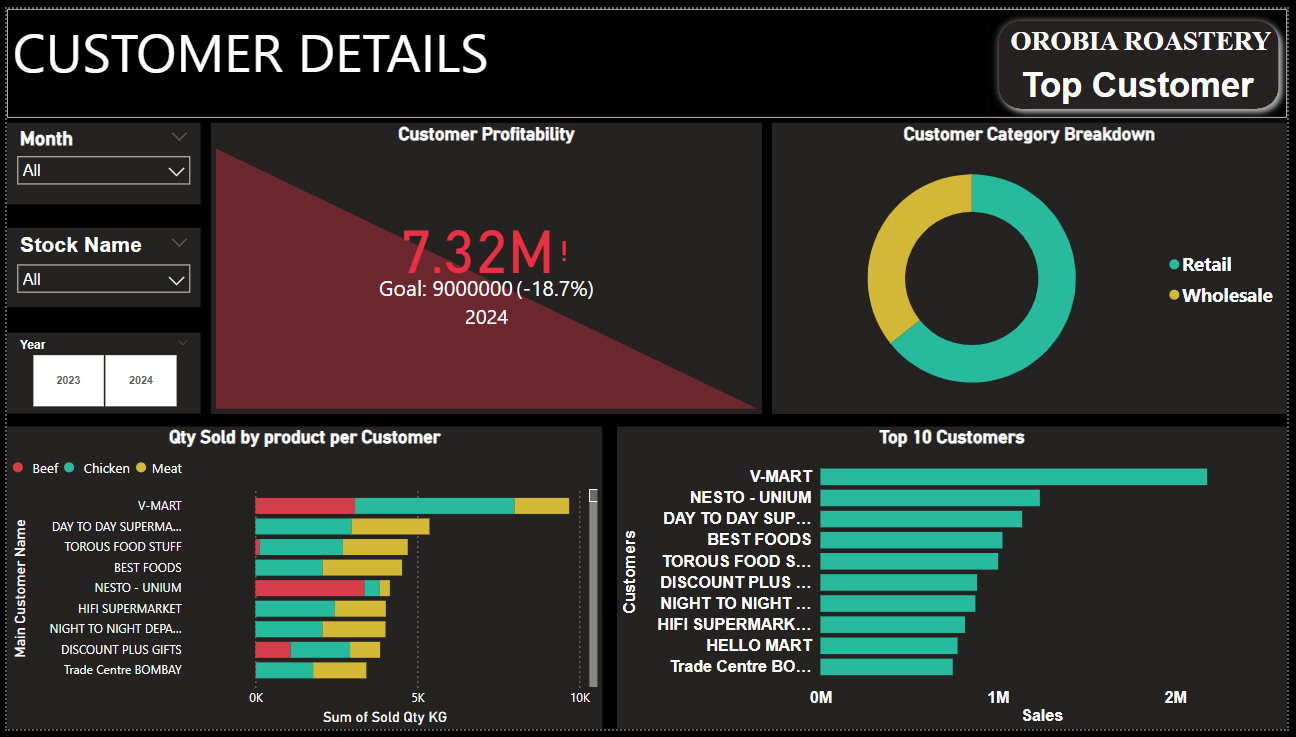

Layout of this report page (visuals, bound fields, positions):
{"tool":"powerbi","page":{"name":"Customer Details","canvas":[1280,720],"ordinal":1},"visuals":[{"type":"clusteredBarChart","title":"Top 10 Customers","fields":{"Y":["Sum(Sheet1.Sales)"],"Category":["Sheet1.Main Customer Name"]},"box":[610.2,417,670.1,303.3],"z":0},{"type":"barChart","title":" Qty Sold by product per Customer ","fields":{"Category":["Sheet1.Main Customer Name"],"Y":["Sum(Sheet1.Sold Qty KG)"],"Series":["Sheet1.Stock Name"]},"box":[0,417,595.5,303.3],"z":1000},{"type":"donutChart","title":"Customer Category Breakdown","fields":{"Category":["Sheet1.Customer Category"],"Y":["Sum(Sheet1.Sales)"]},"box":[765.5,113.7,514.8,291],"z":2000},{"type":"kpi","title":"Customer Profitability","fields":{"Indicator":["Sum(Sheet1.Sales)"],"TrendLine":["Sheet1.Year"],"Goal":["Sheet1.Target"]},"box":[204.2,113.7,551.5,291],"z":3000},{"type":"textbox","box":[0,0,1280.3,108.8],"z":4000},{"type":"slicer","fields":{"Values":["Sheet1.Month.1"]},"box":[0,113.7,193.2,81.9],"z":5000},{"type":"slicer","fields":{"Values":["Sheet1.Stock Name"]},"box":[0,218.9,193.2,79.5],"z":6000},{"type":"slicer","fields":{"Values":["Sheet1.Year"]},"box":[0,324.1,193.2,80.7],"z":7000},{"type":"shape","box":[981.9,2.4,298.4,106.4],"z":8000},{"type":"card","fields":{"Values":["Sheet1.Top Customer"]},"box":[988,2.4,286.1,97.8],"z":9000}]}

Visuals, with their boxes in screenshot pixels (x1, y1, x2, y2), scaled from the page's 1280x720 canvas onto the 1296x737 screenshot:
"Top 10 Customers" clusteredBarChart: left=618, top=427, right=1295, bottom=736
" Qty Sold by product per Customer " barChart: left=0, top=427, right=603, bottom=736
"Customer Category Breakdown" donutChart: left=775, top=116, right=1295, bottom=414
"Customer Profitability" kpi: left=207, top=116, right=765, bottom=414
textbox: left=0, top=0, right=1295, bottom=111
slicer - Sheet1.Month.1: left=0, top=116, right=196, bottom=200
slicer - Sheet1.Stock Name: left=0, top=224, right=196, bottom=305
slicer - Sheet1.Year: left=0, top=332, right=196, bottom=414
shape: left=994, top=2, right=1295, bottom=111
card - Sheet1.Top Customer: left=1000, top=2, right=1290, bottom=103
